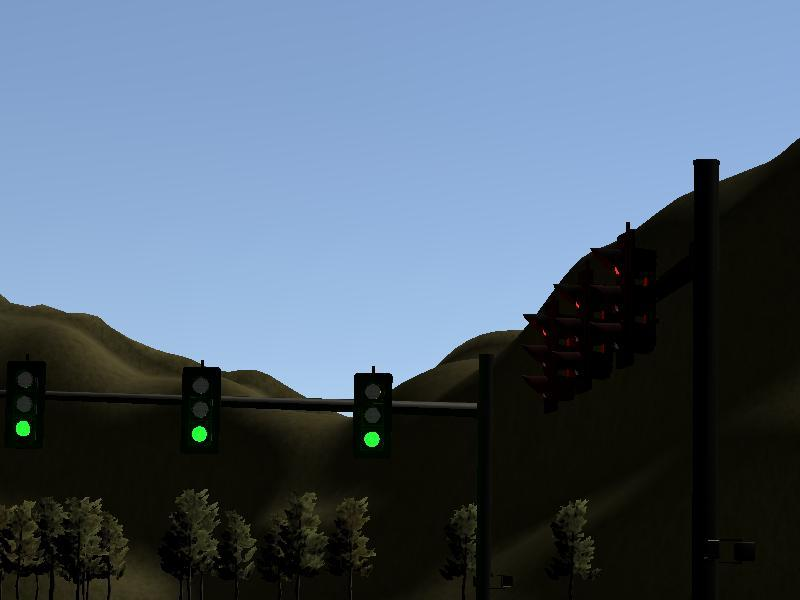Green: (2, 361, 45, 450), (180, 366, 222, 456), (351, 372, 392, 460)
